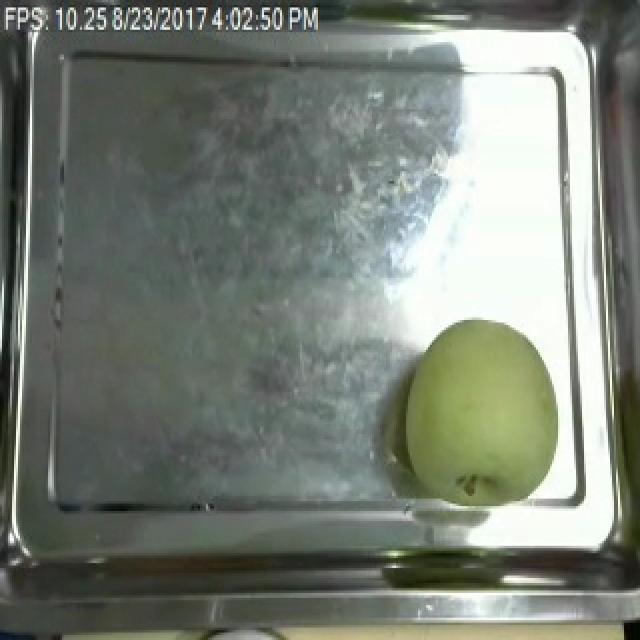50-_ripeness: (388, 303, 589, 531)
